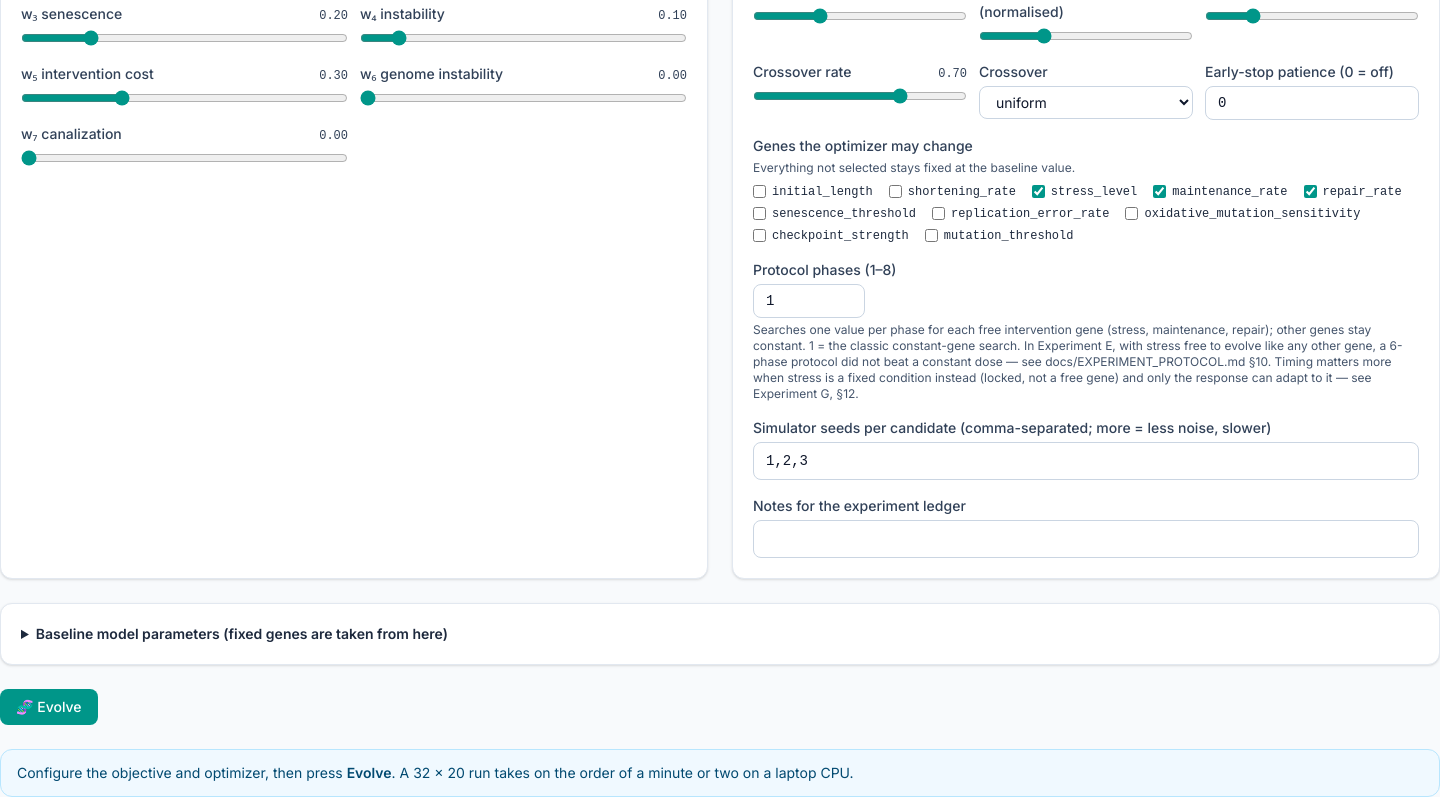
Evolve page › rejects non-integer seeds client-side
This screenshot has width=1440, height=797.
(page scrolled)
Replace the text in the field labelled "Simulator seeds" with "1,abc". click: (1086, 460)
box: [753,442,1419,480]
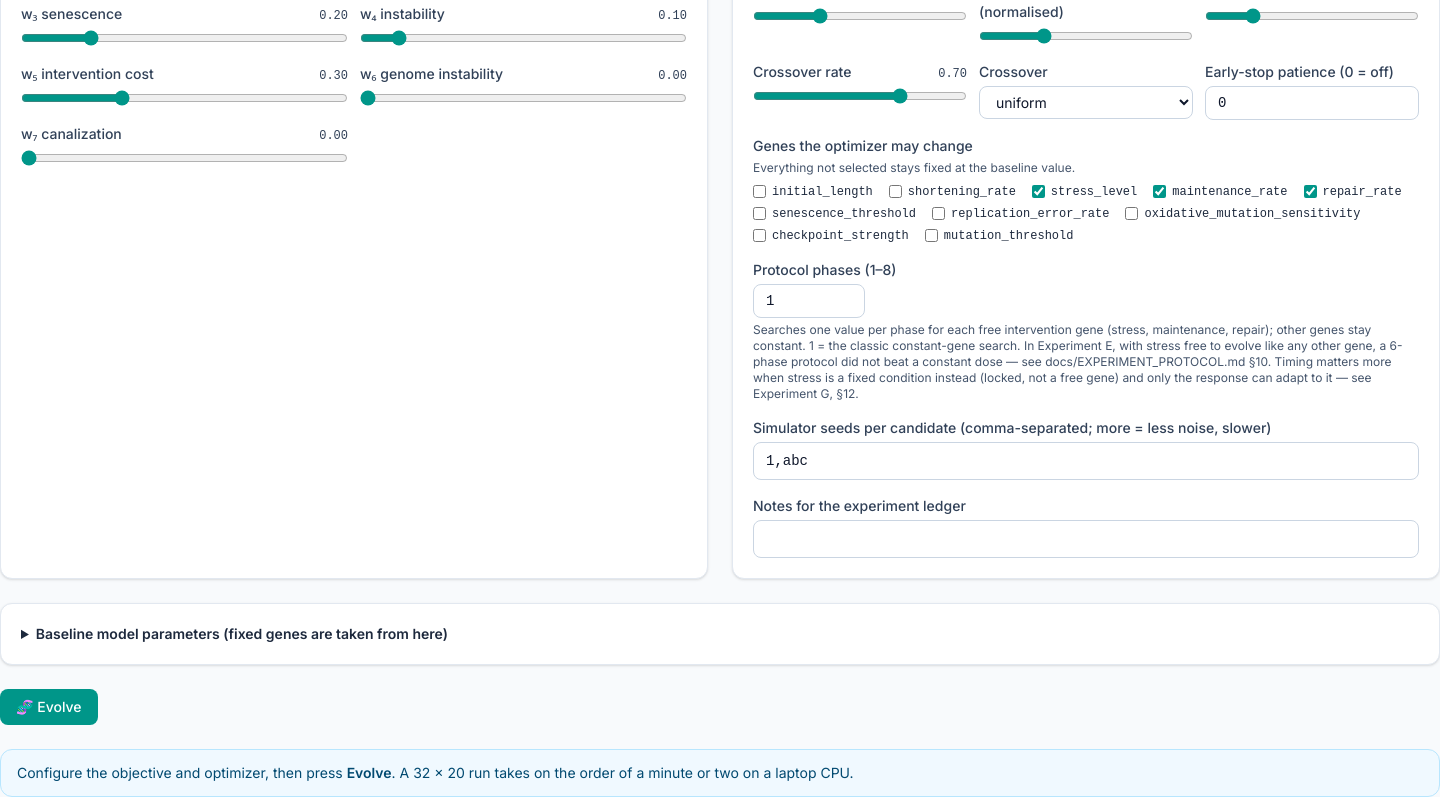
Click the button "🧬 Evolve". click: (49, 706)
box: [0,688,98,724]
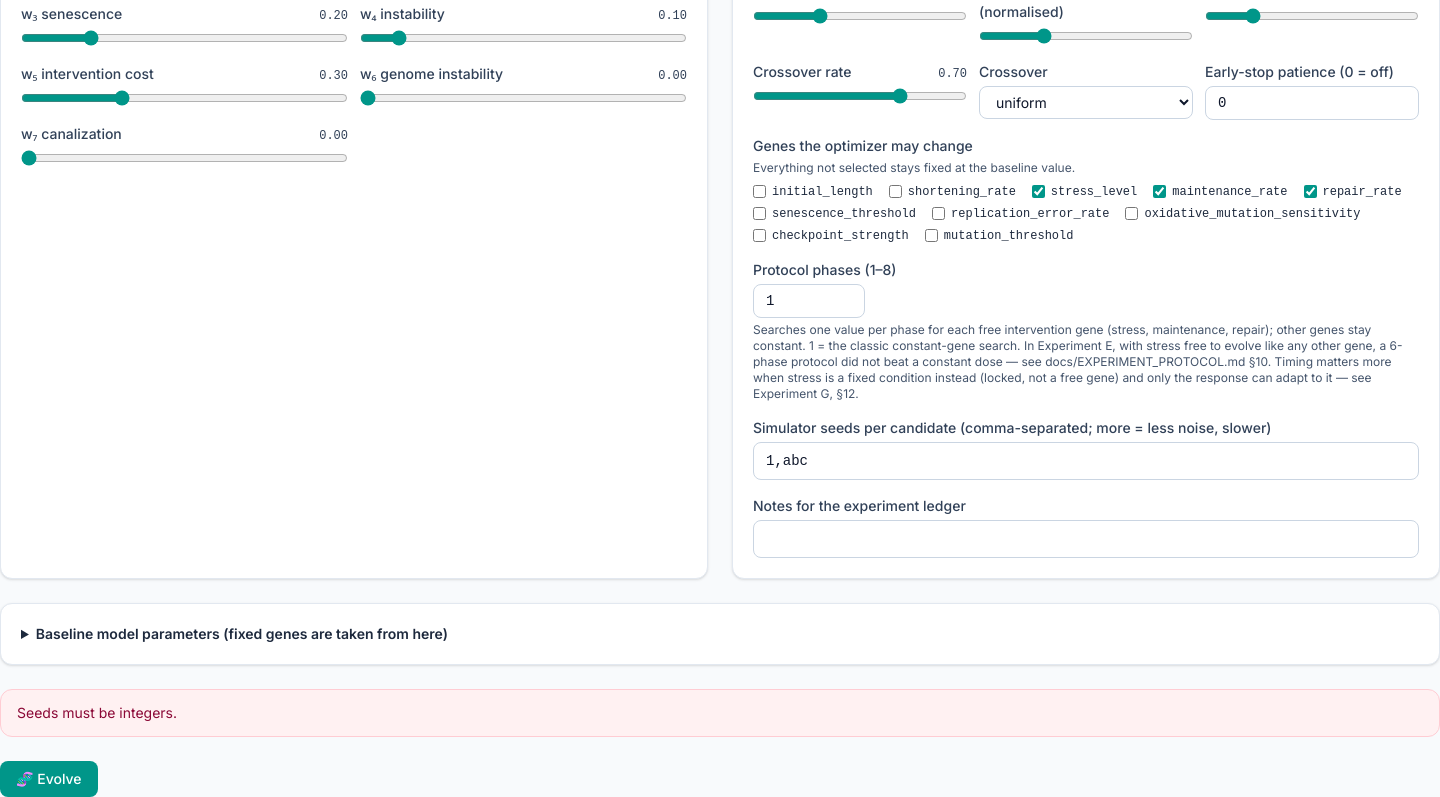
Expected: the message reads "Seeds must be integers.", [17,704,177,720]
